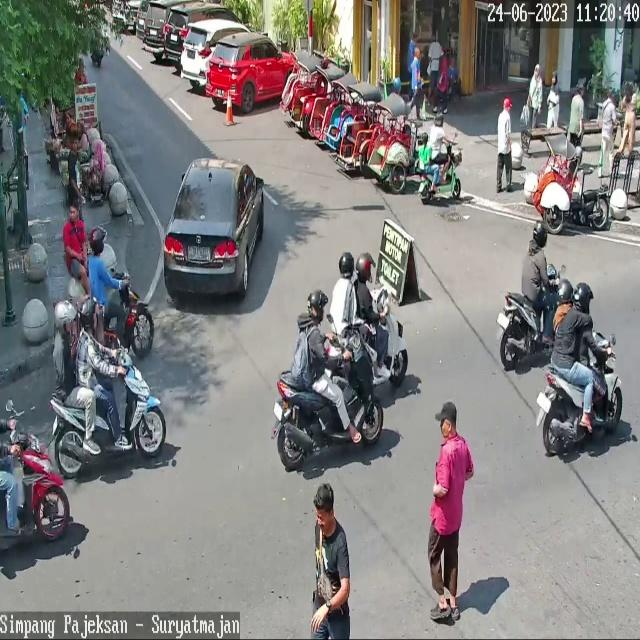bus: (271, 329, 384, 470), (50, 347, 167, 479), (536, 332, 623, 455), (325, 285, 409, 389), (0, 423, 71, 543), (497, 264, 561, 369), (102, 272, 155, 358)
motorcycle: (163, 157, 264, 301), (206, 33, 300, 111), (163, 3, 246, 65), (181, 21, 252, 87), (143, 0, 169, 53)
